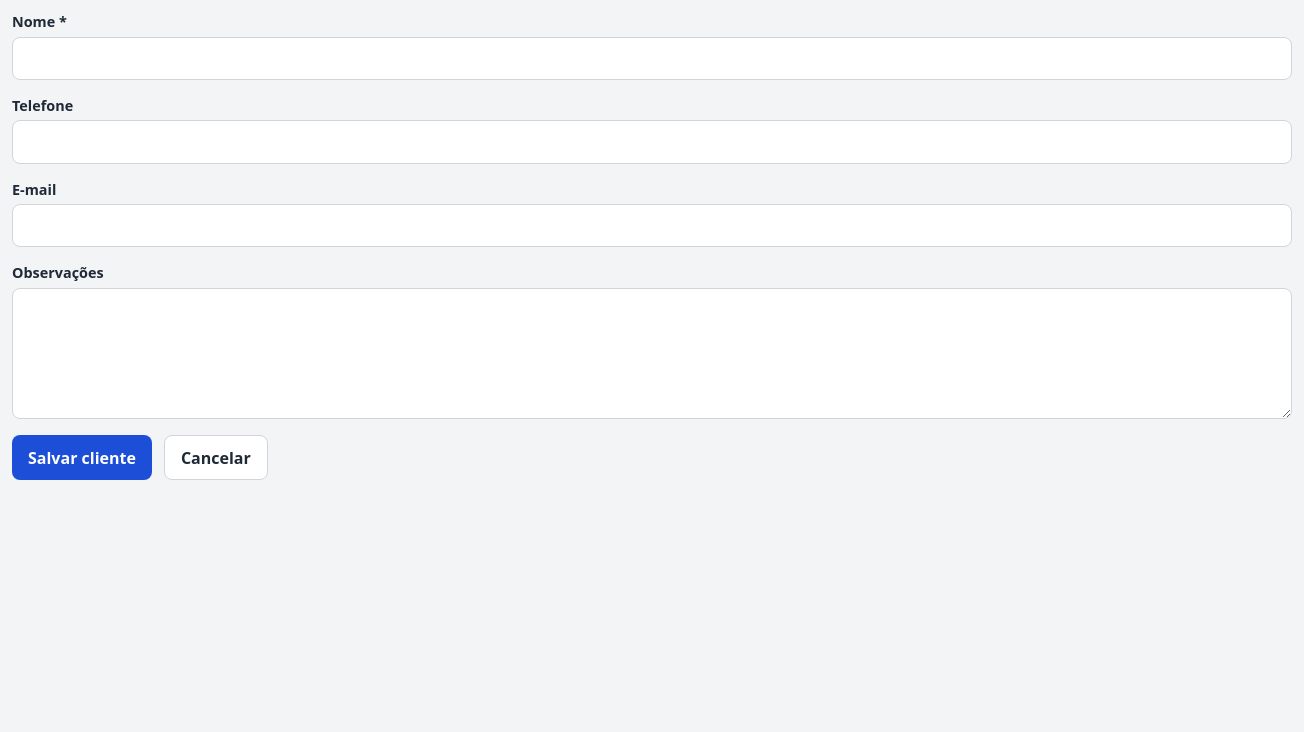
Test: NewCustomerForm › validates before sending
The image size is (1304, 732).
Step 1. Type "nao-e-email" into the field labelled "E-mail" → [652, 226], box [12,204,1292,247]
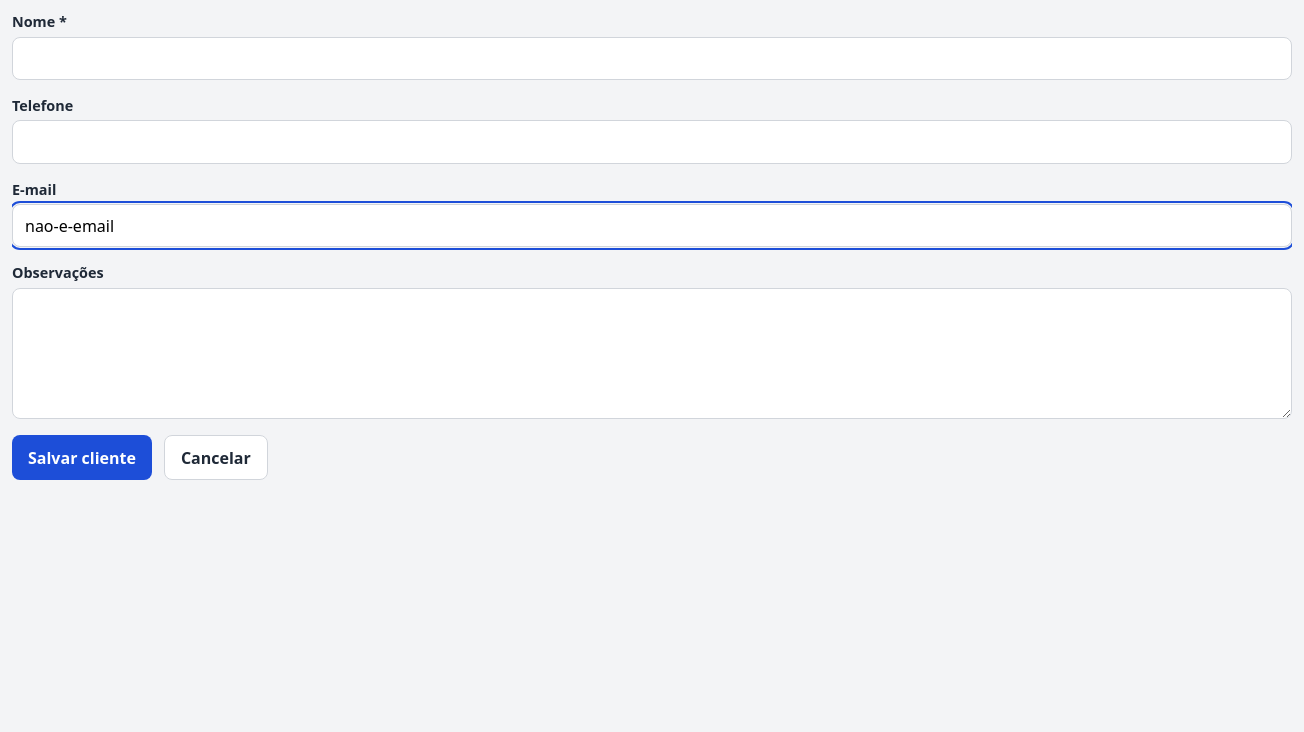
Step 2. Click the button "Salvar cliente" → [82, 458], box [12,435,152,480]
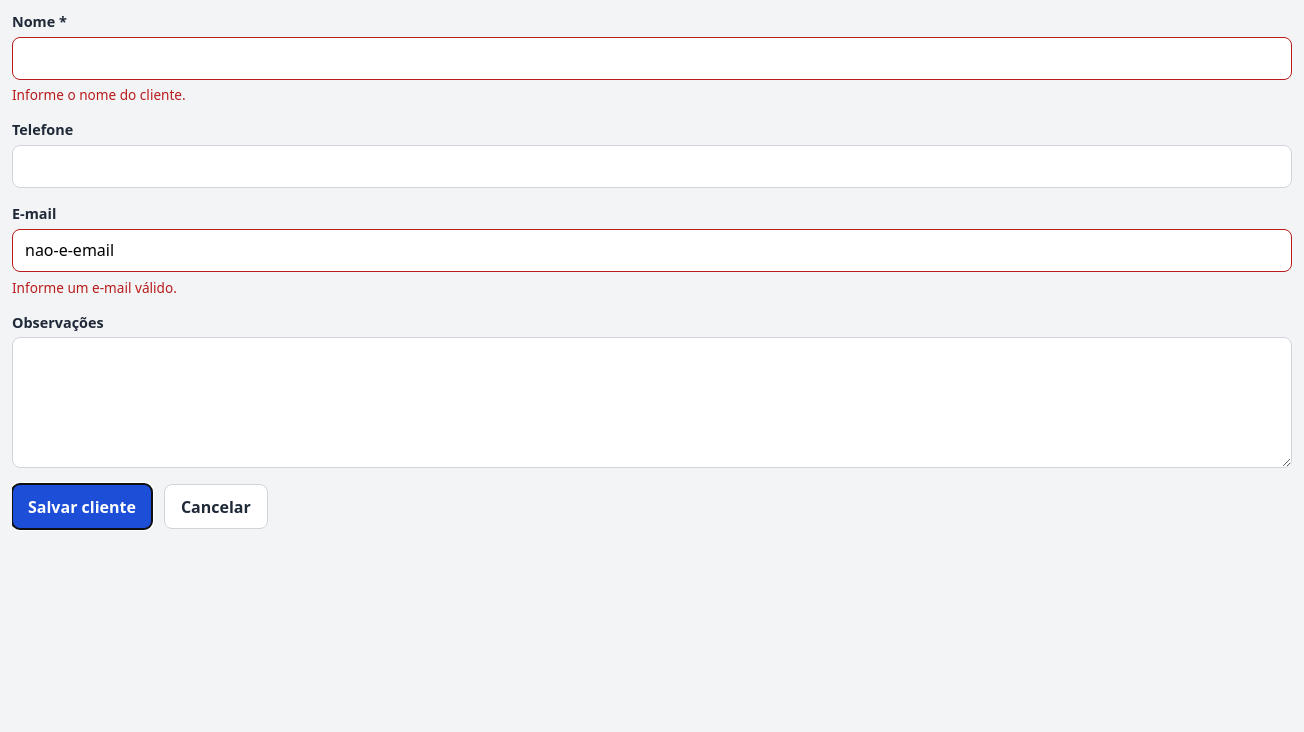
Expected: the text "Informe o nome do cliente." is shown, [12,85,186,104]
Expected: the text "Informe um e-mail válido." is shown, [12,278,177,296]
